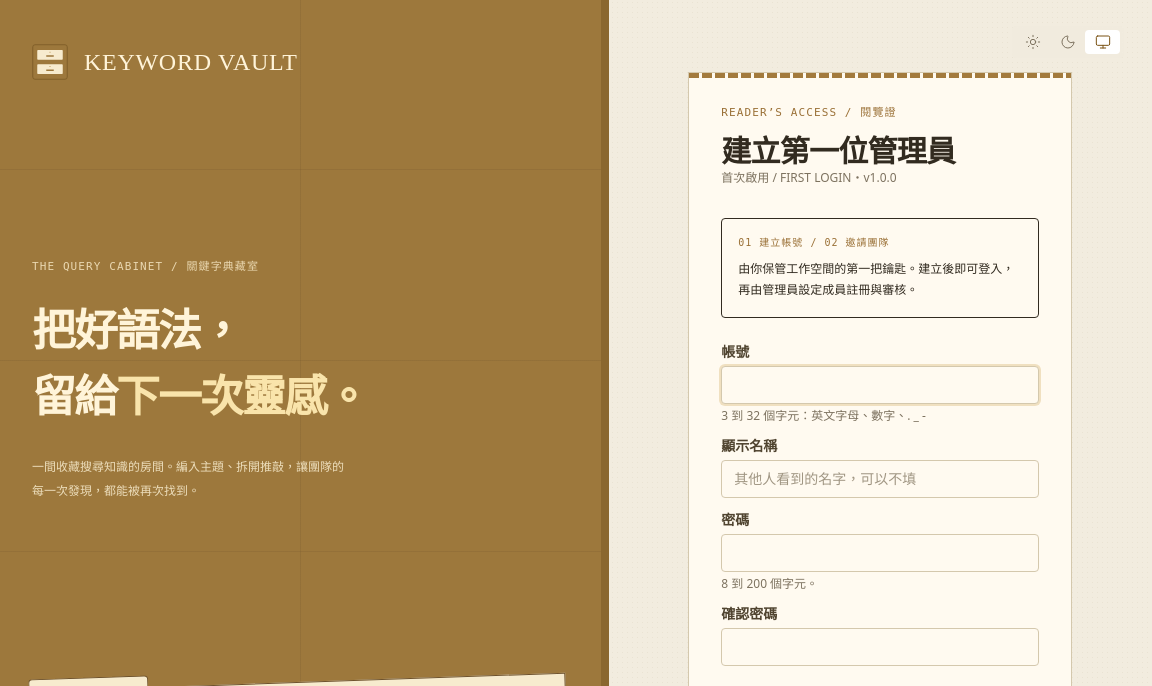
Test: 第一次使用要先建立管理員
Type "nat" into the field labelled "帳號" at (880, 385), box [721,366,1039,404]
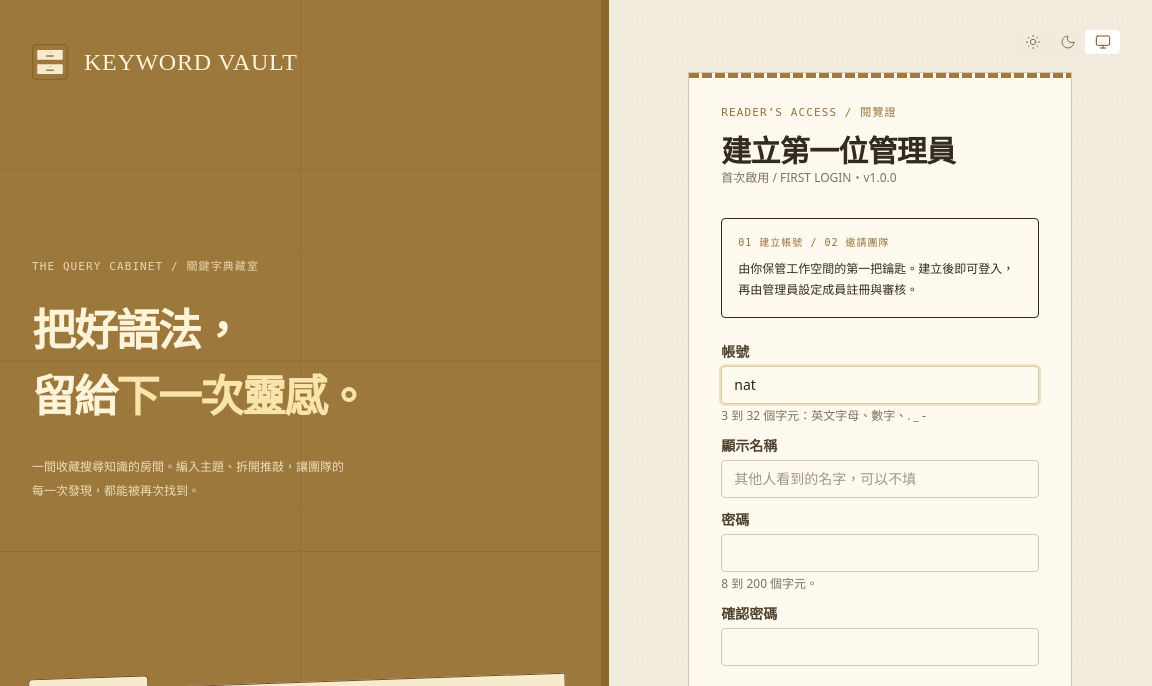
Type "correct horse" into the password field labelled "密碼" at (880, 553), box [721,534,1039,572]
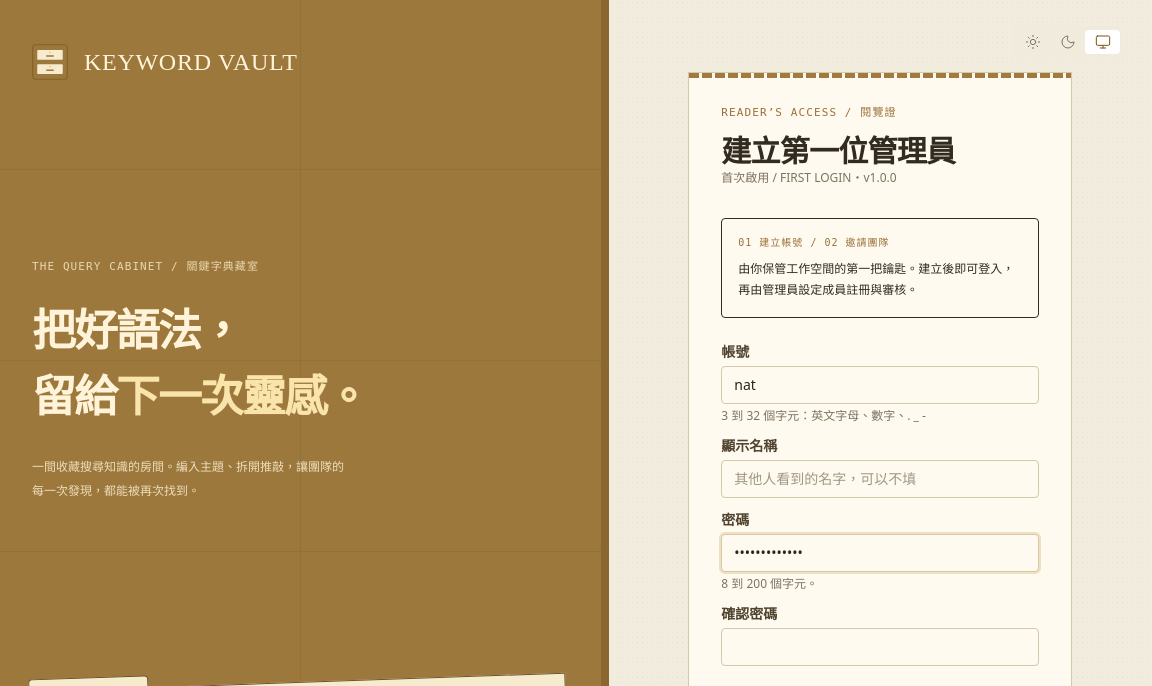
Type "correct horse" into the password field labelled "確認密碼" at (880, 647), box [721,628,1039,666]
(page scrolled)
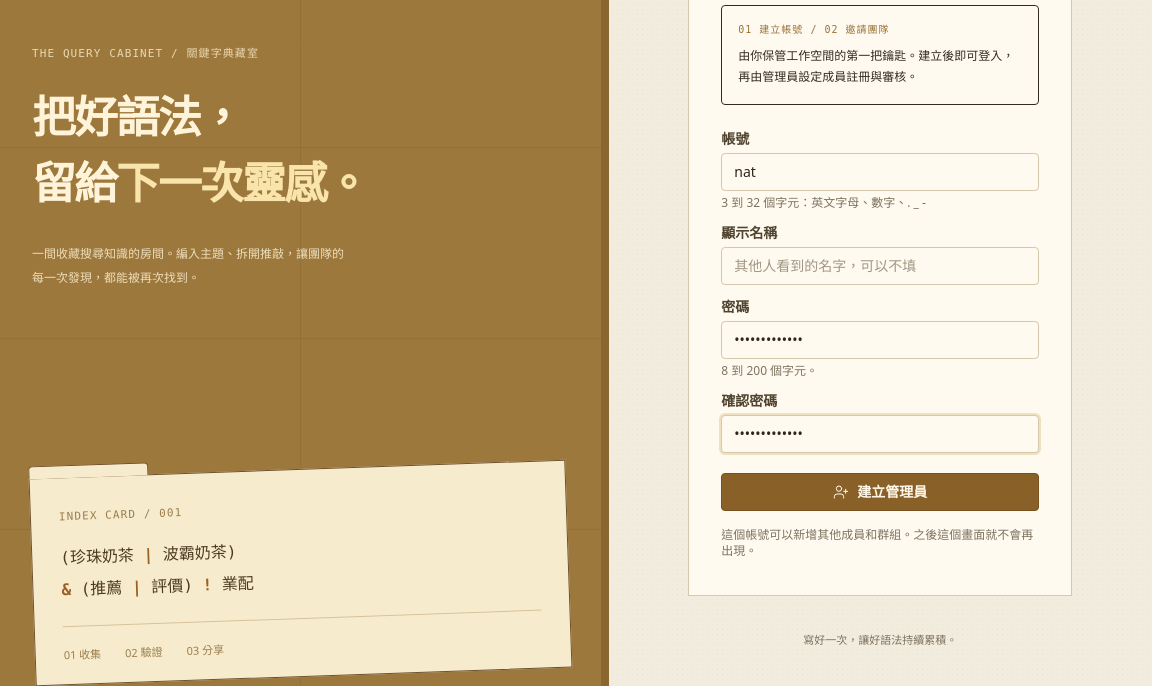
Click the button "建立管理員" at (880, 492), box [721,473,1039,511]
(page scrolled)
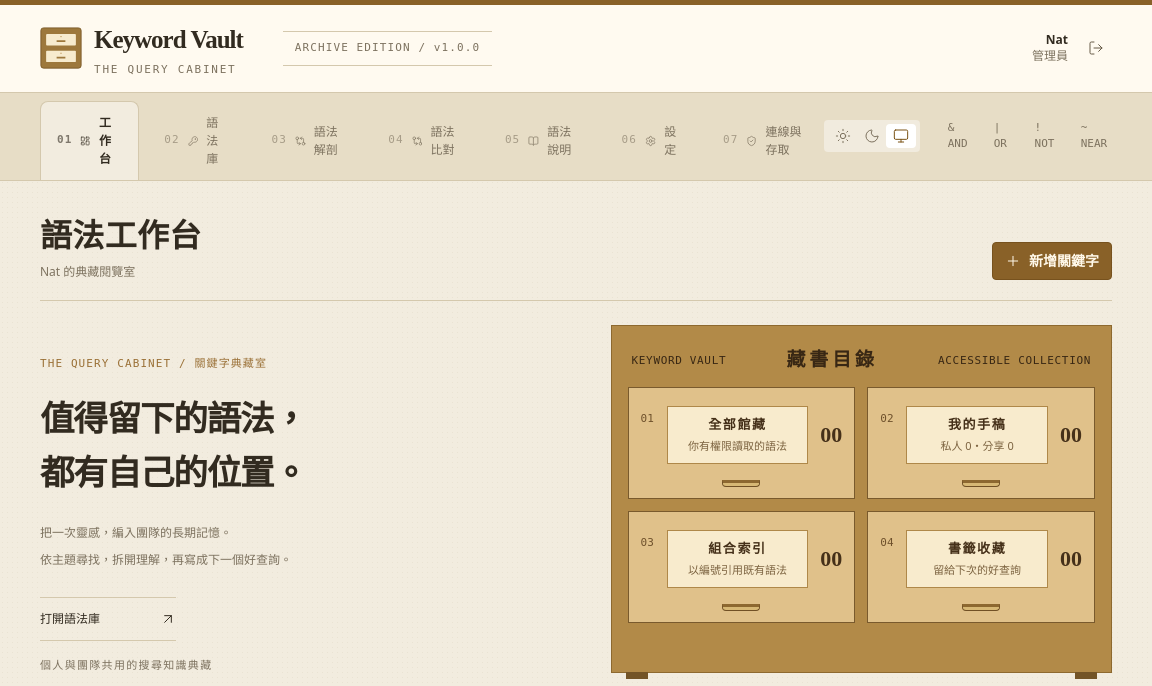
Now the button named "登出" is shown, box [1080,32,1112,64]
